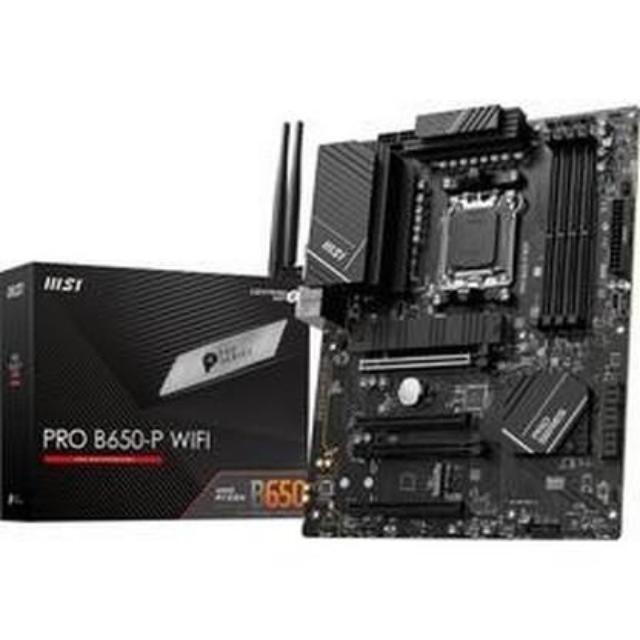Mainboard: (289, 88, 640, 554)
